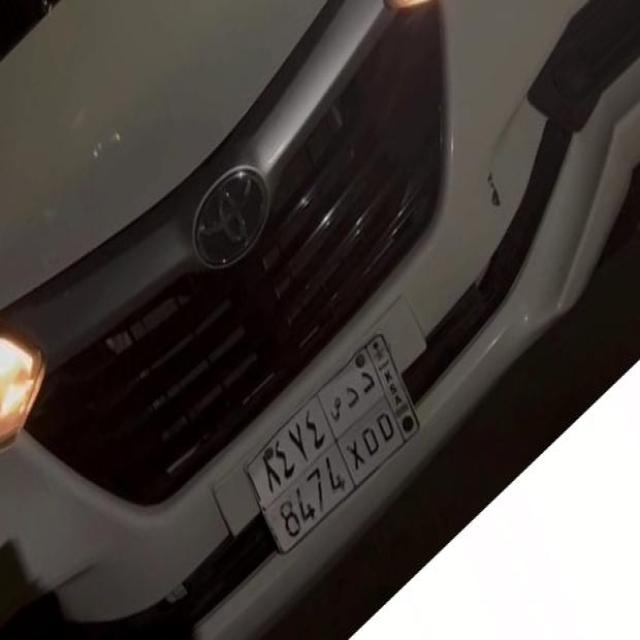Car-plate: (230, 308, 440, 575)
